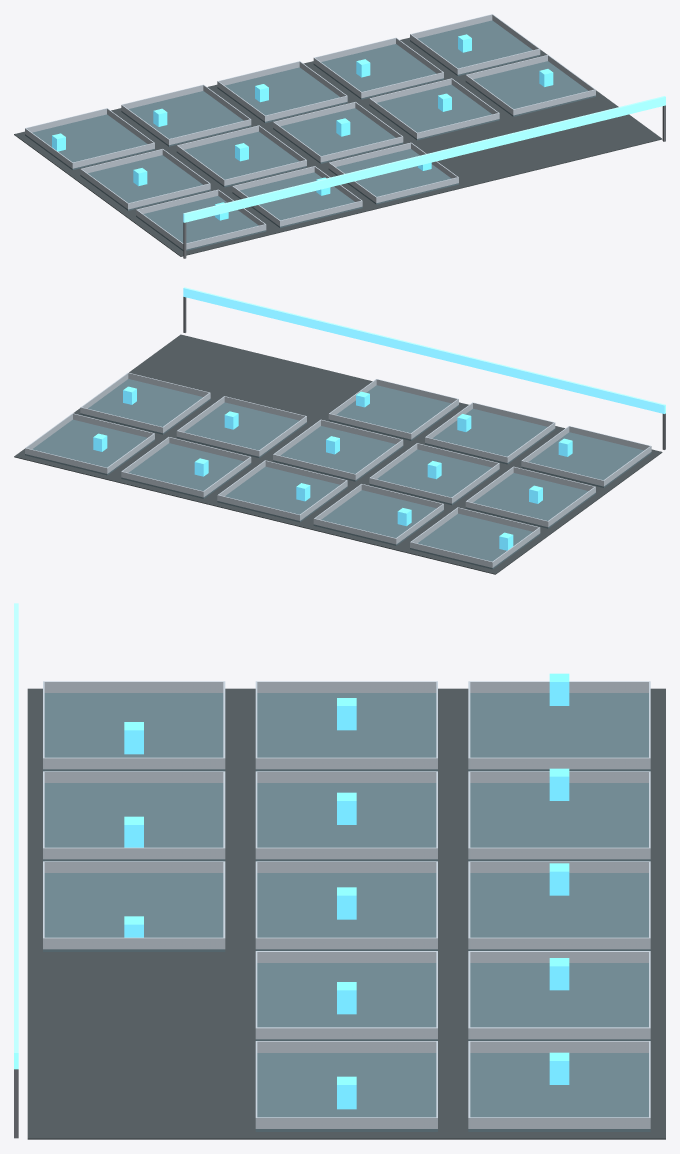
Rendered from pack-k-12.glb.
3 views of the same model, one above another, from view 1: azimuth 30°, elevation 25°; view 2: azimuth 150°, elevation 25°; view 3: azimuth 270°, elevation 25° (orthographic). The views are drawn at different scales.
Visible parts, largest first — view 1: K–12; view 2: K–12; view 3: K–12.
Boxes of the visible parts, <box> form: K–12: <box>14,14,665,258</box>; K–12: <box>14,287,665,574</box>; K–12: <box>14,603,665,1139</box>.
Size of the model in its own units: 70 by 6.3 by 42.9.
